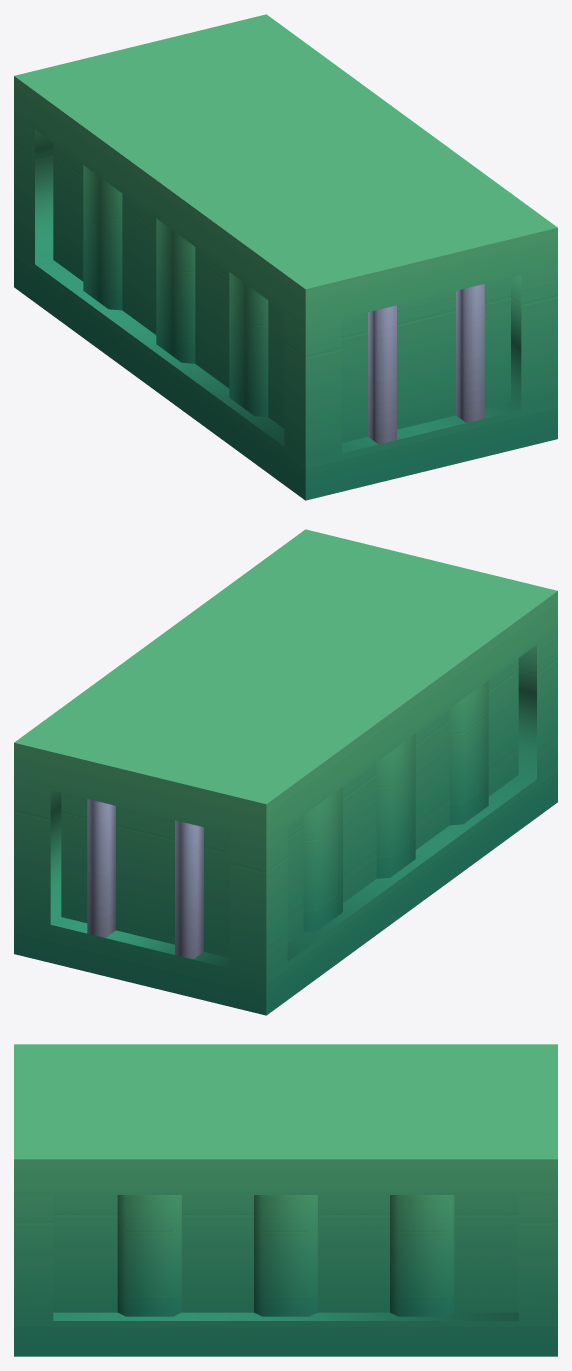
Rendered from cargo-container-c-transformed-transformed.glb.
3 views of the same model, one above another, from view 1: azimuth 30°, elevation 25°; view 2: azimuth 150°, elevation 25°; view 3: azimuth 270°, elevation 25° (orthographic). The views are drawn at different scales.
Visible parts, largest first — view 1: cargo-container-c; view 2: cargo-container-c; view 3: cargo-container-c.
Boxes of the visible parts, x1,y1,x2,y2 form: cargo-container-c: [14, 14, 557, 500]; cargo-container-c: [14, 529, 557, 1015]; cargo-container-c: [14, 1044, 557, 1356].
Bounding box in the file's own units: 1.38 × 1.1 × 2.76.
1 material, 1 textured.
